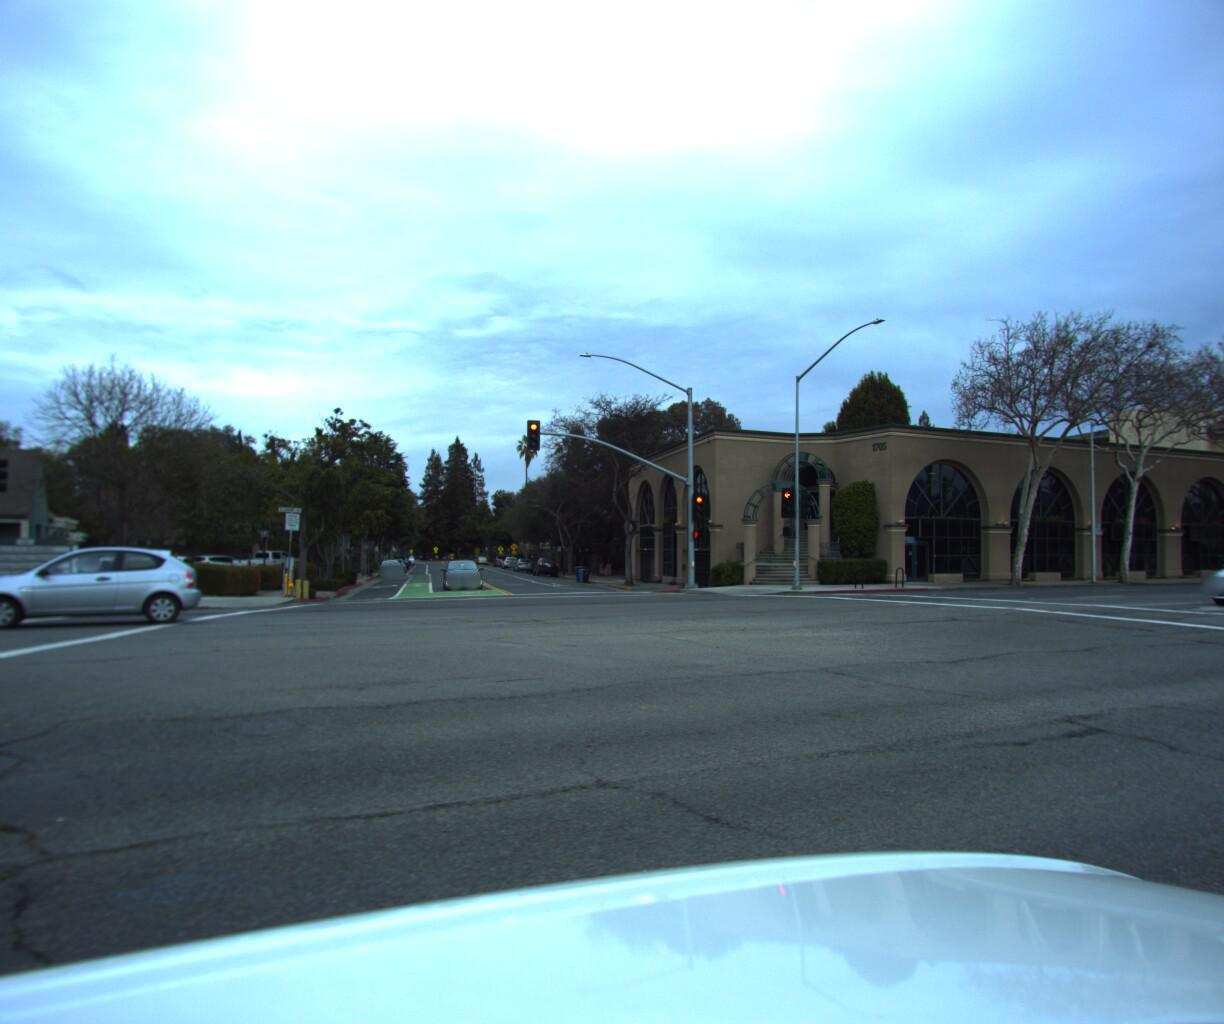car: (0, 543, 202, 635), (224, 547, 306, 576), (180, 551, 255, 579), (1194, 542, 1224, 603), (441, 554, 484, 592), (526, 554, 559, 574), (379, 556, 404, 576), (510, 551, 533, 568)
